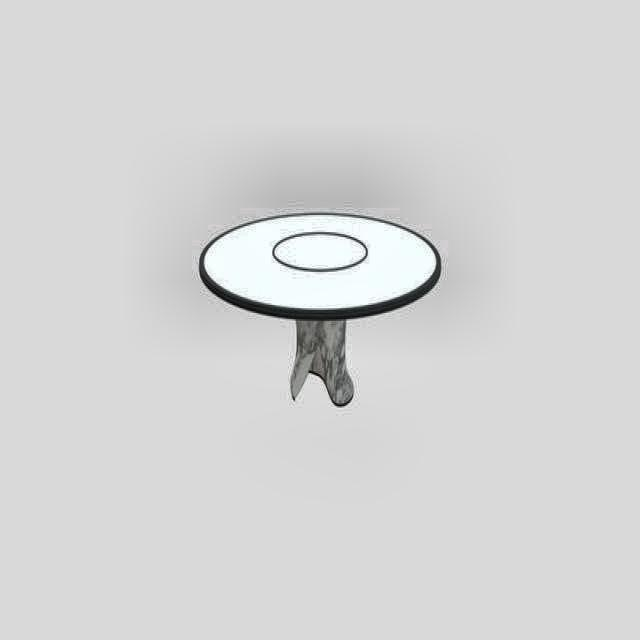mesa: (198, 208, 442, 410)
